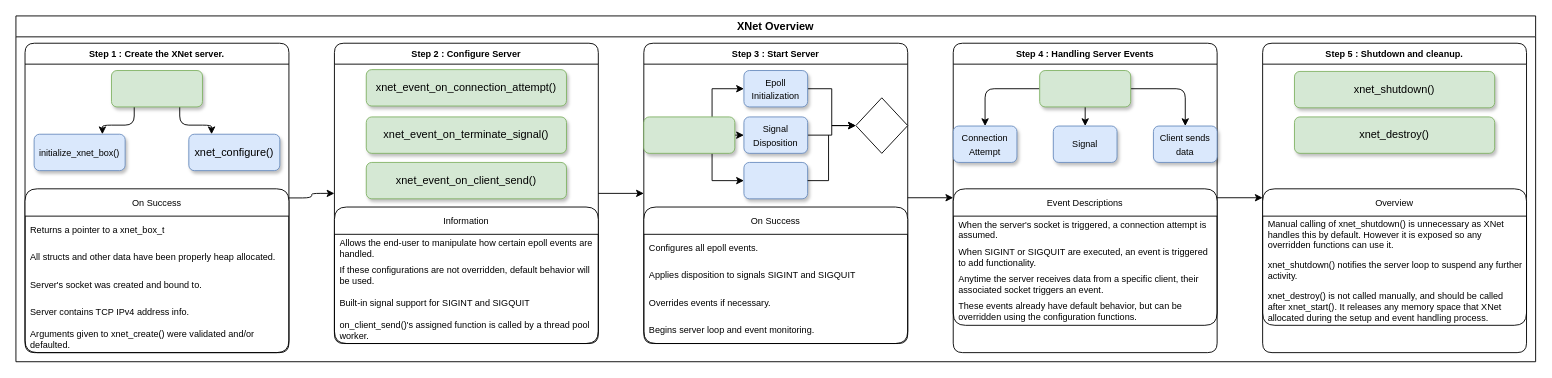
Image size: 1552x378. Some labels were removed from this diagram. The centre of each missing label's shape, as x and y in pixels:
"Event Loop" belongs at (x=881, y=125).
"Event overrides" belongs at (x=776, y=181).
"Events" belongs at (x=1085, y=89).
"xnet_create()" belongs at (x=157, y=89).
"xnet_start()" belongs at (x=689, y=136).
